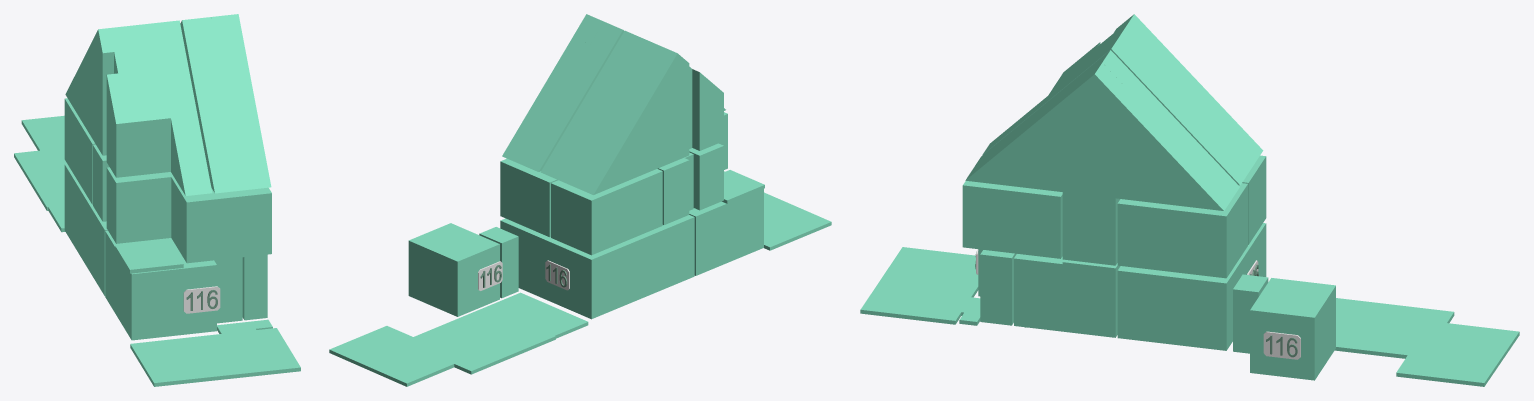
3 renders of one model, left to right at view 1: azimuth 30°, elevation 25°; view 2: azimuth 150°, elevation 25°; view 3: azimuth 270°, elevation 25°, orthographic. The views are drawn at different scales.
Parts seen in each view (by area): view 1: g_6, g_11, g_7, g_15, g_1, g_17, g_0, g_10, g_16, g_5, g_2, g_8 (+2 smaller); view 2: g_6, g_17, g_0, g_10, g_7, g_3, g_1, g_9, g_15, g_11, g_13, g_4 (+3 smaller); view 3: g_7, g_17, g_0, g_6, g_9, g_2, g_15, g_3, g_11, g_8, g_14, g_5 (+3 smaller).
Boxes of the visible parts, x1,y1,x2,y2 form: g_6: (65,20,212,195); g_11: (106,167,271,263); g_7: (180,17,271,193); g_15: (130,319,300,386); g_1: (105,230,216,340); g_17: (14,115,67,232); g_0: (64,164,107,295); g_10: (64,98,95,204); g_16: (115,240,183,273); g_5: (242,254,267,320); g_2: (214,257,242,323); g_8: (211,14,246,59); g_6: (540,30,725,194); g_17: (329,292,588,386); g_0: (500,215,694,319); g_10: (551,169,662,255); g_7: (502,21,623,171); g_3: (408,223,499,316); g_1: (689,171,763,275); g_9: (500,158,557,237); g_15: (764,192,831,250); g_11: (689,112,727,210); g_13: (657,152,693,224); g_4: (479,227,518,298); g_7: (965,50,1239,210); g_17: (1335,298,1519,386); g_0: (1117,223,1266,350); g_6: (982,14,1263,185); g_9: (1117,183,1247,278); g_2: (1014,254,1120,337); g_15: (860,247,980,325); g_3: (1250,278,1335,380); g_11: (962,181,1062,258); g_8: (1062,62,1122,198); g_14: (1062,192,1120,265); g_5: (980,250,1016,325).
Size of the model in its own units: 11.27 by 10.25 by 23.05.
